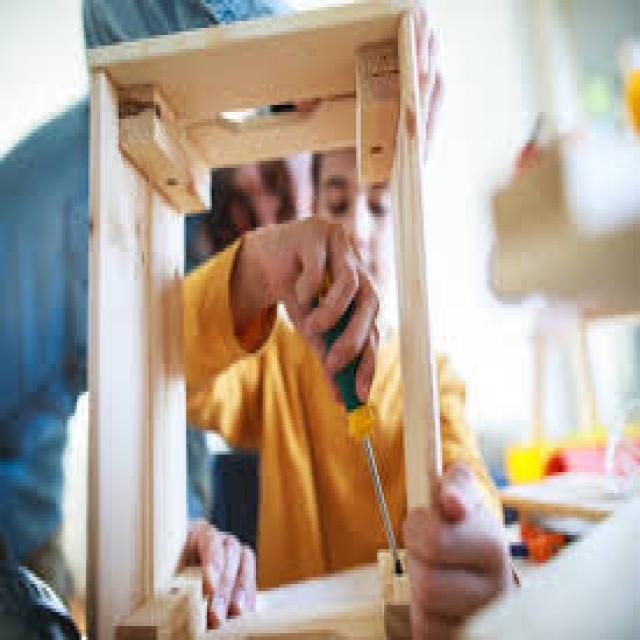screwdriver: (310, 257, 410, 582)
